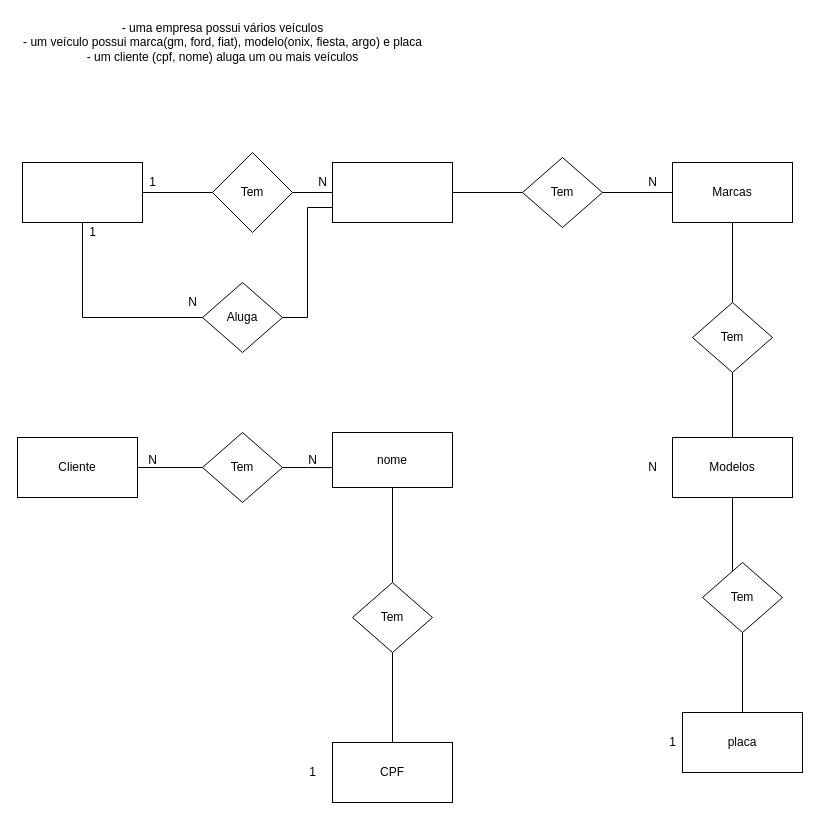
This 820x820 diagram has some shape labels left out. Here are the shapes that lost their labels. From the top down, the box of each, then its label:
(22, 162, 142, 222): Empresa
(332, 162, 452, 222): Veiculos
